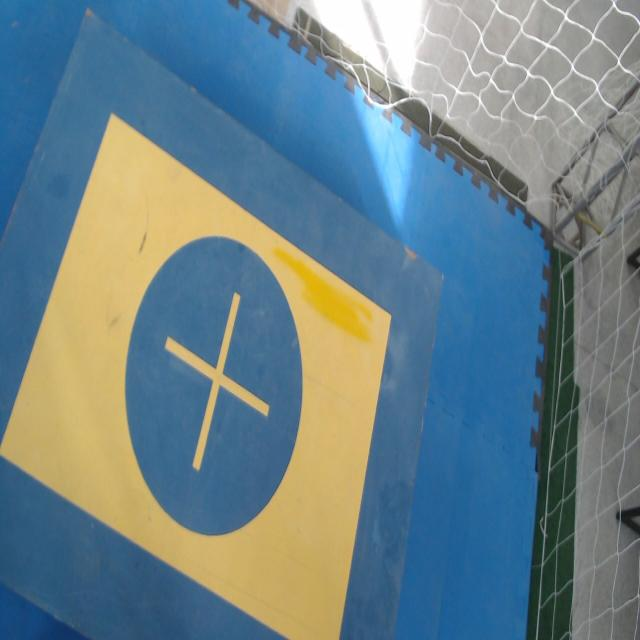base_inicio: (0, 113, 392, 639)
